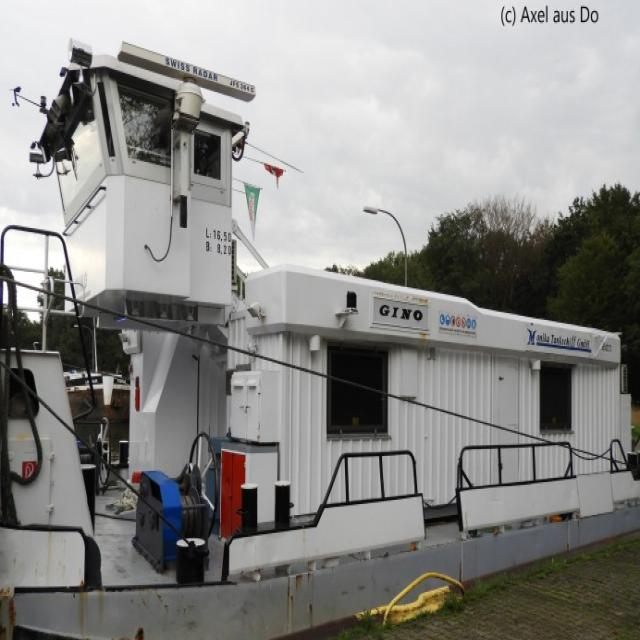tugboat: (1, 30, 640, 640)
